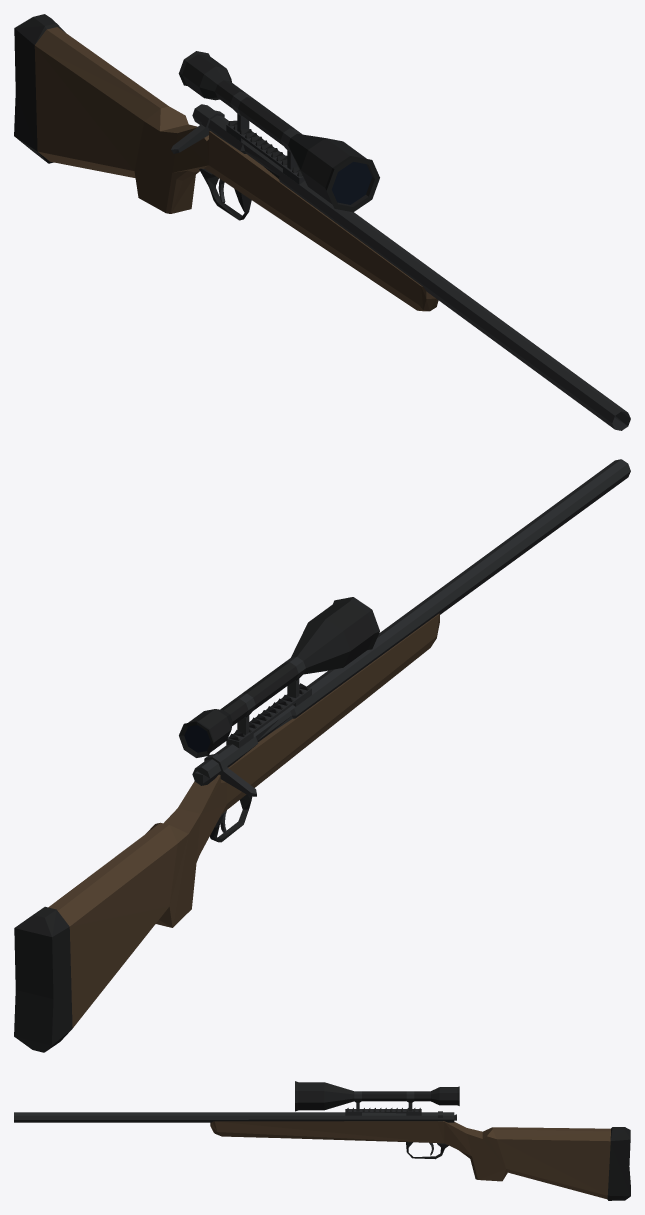
Rendered from gun_bolt1.glb.
3 views of the same model, one above another, from view 1: azimuth 30°, elevation 25°; view 2: azimuth 150°, elevation 25°; view 3: azimuth 270°, elevation 25° (orthographic). The views are drawn at different scales.
Parts seen in each view (by area): view 1: lod0; view 2: lod0; view 3: lod0.
Boxes of the visible parts, <box> form: lod0: <box>14,14,630,430</box>; lod0: <box>14,459,630,1052</box>; lod0: <box>14,1081,630,1200</box>.
Bounding box in the file's own units: 0.0863 × 0.2655 × 1.26.
